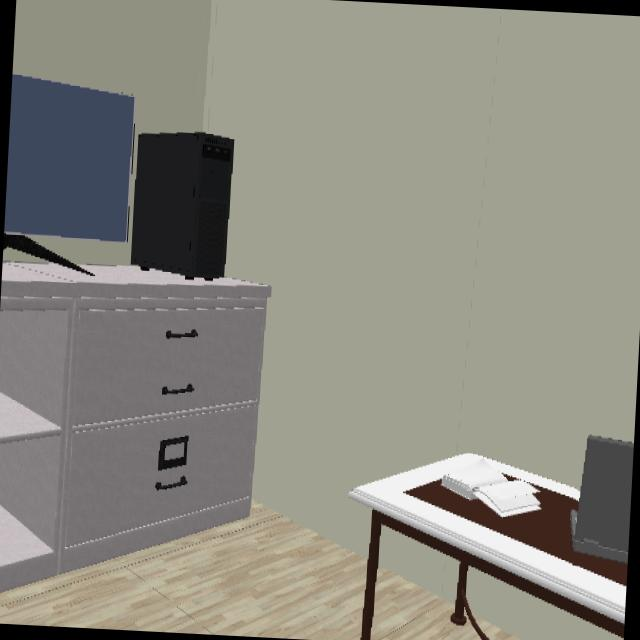book: (441, 454, 540, 517)
cabinet: (0, 262, 271, 592)
laptop: (573, 434, 634, 568)
monitor: (4, 75, 137, 248)
table: (349, 454, 628, 640)
